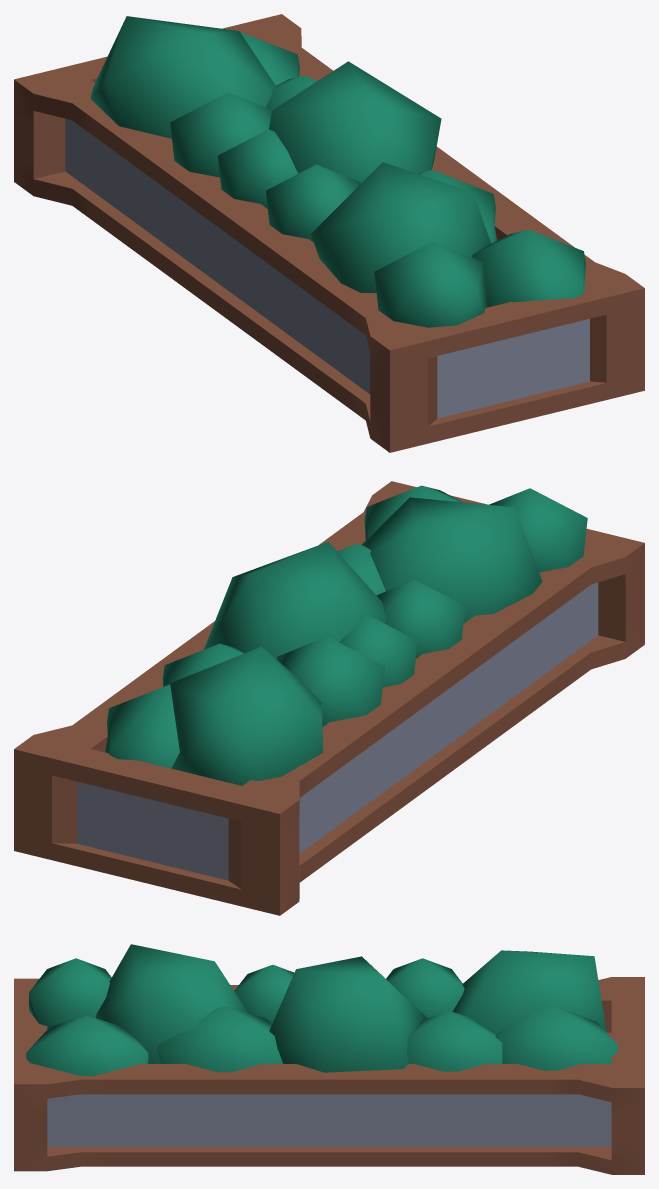
Rendered from beet.fbx.
The picture shows the model from 3 angles, top to bottom: view 1: azimuth 30°, elevation 25°; view 2: azimuth 150°, elevation 25°; view 3: azimuth 270°, elevation 25°; orthographic projection. The views are drawn at different scales.
Visible parts, largest first — view 1: beet; view 2: beet; view 3: beet.
Part boxes in pixels (box(x1,y1,x2,y2)): beet: box(14, 14, 644, 452); beet: box(14, 481, 644, 915); beet: box(14, 944, 644, 1174).
Bounding box in the file's own units: 184 × 443 × 124.
